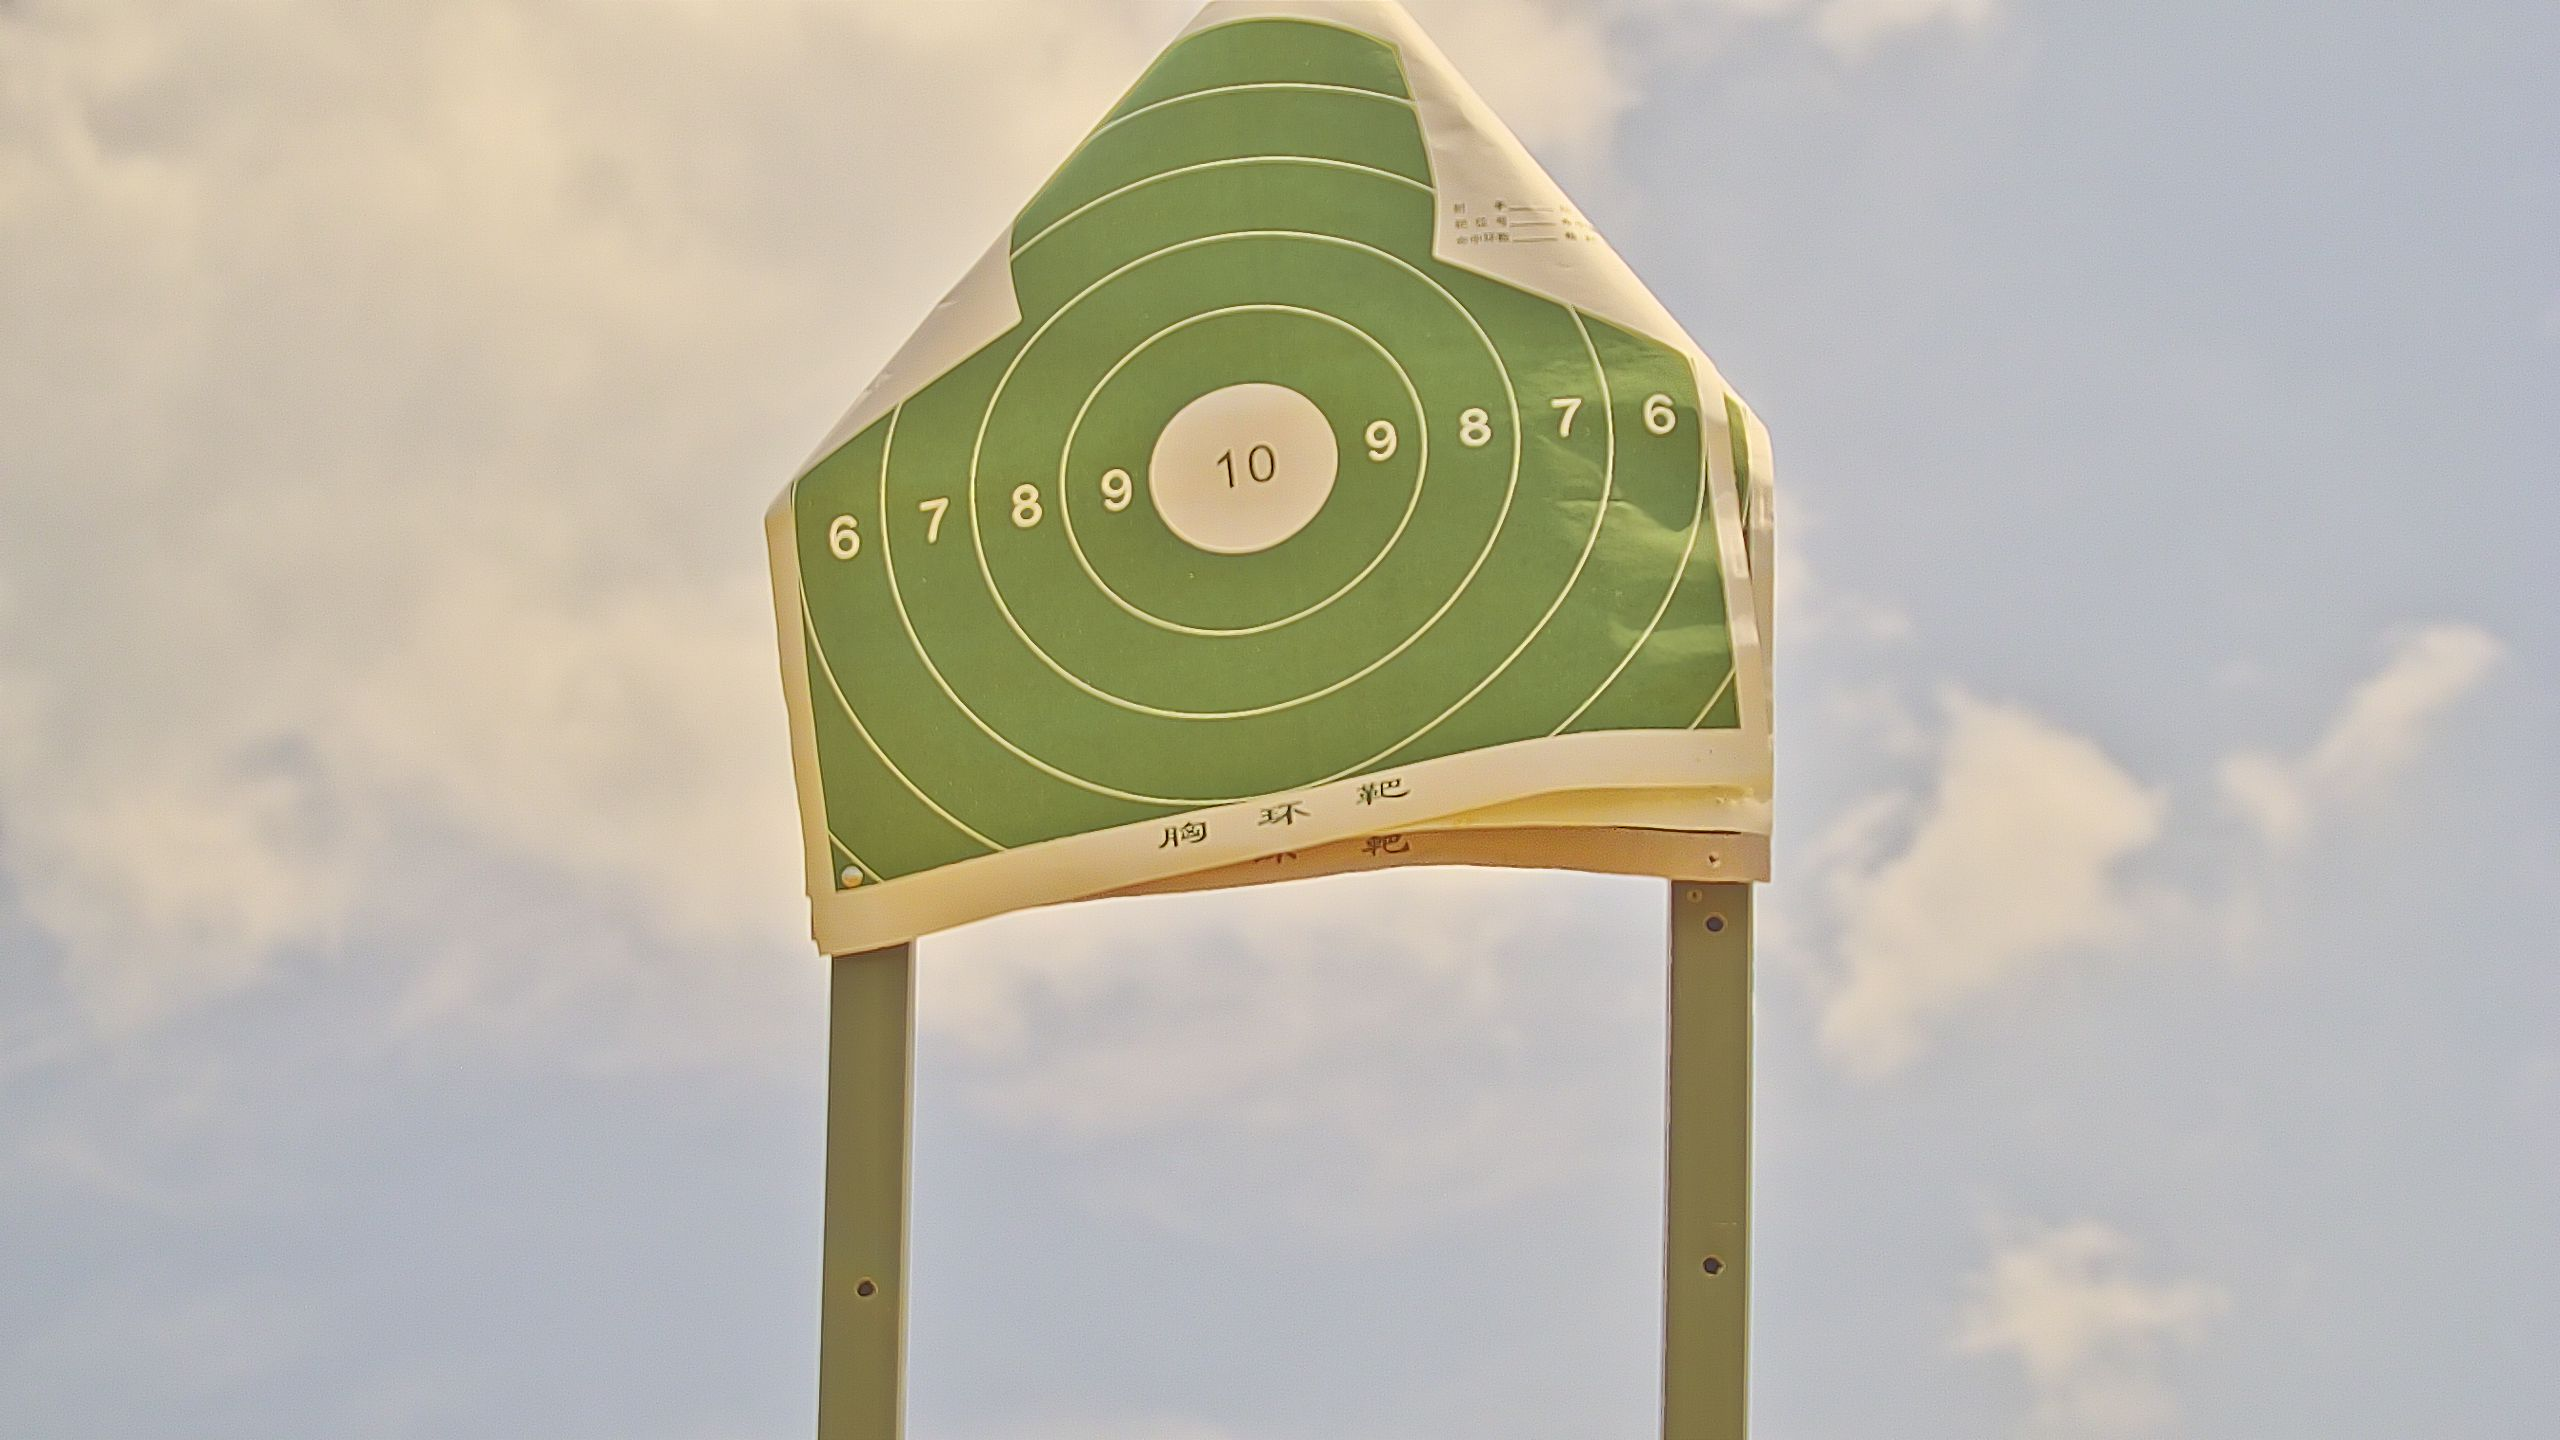kernel: (1241, 461, 1245, 471)
target: (793, 25, 1742, 895)
ten: (1146, 375, 1340, 554)
